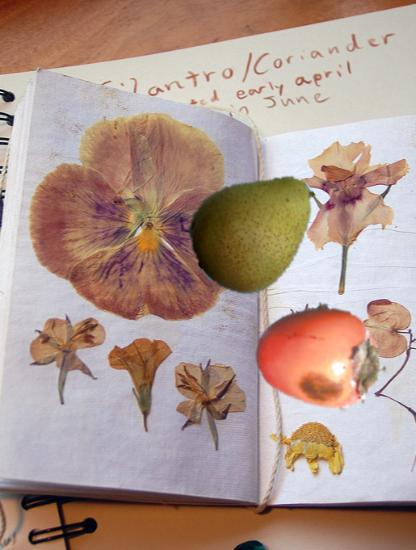Kaki: (254, 286, 391, 423)
Pear: (188, 161, 325, 298)
